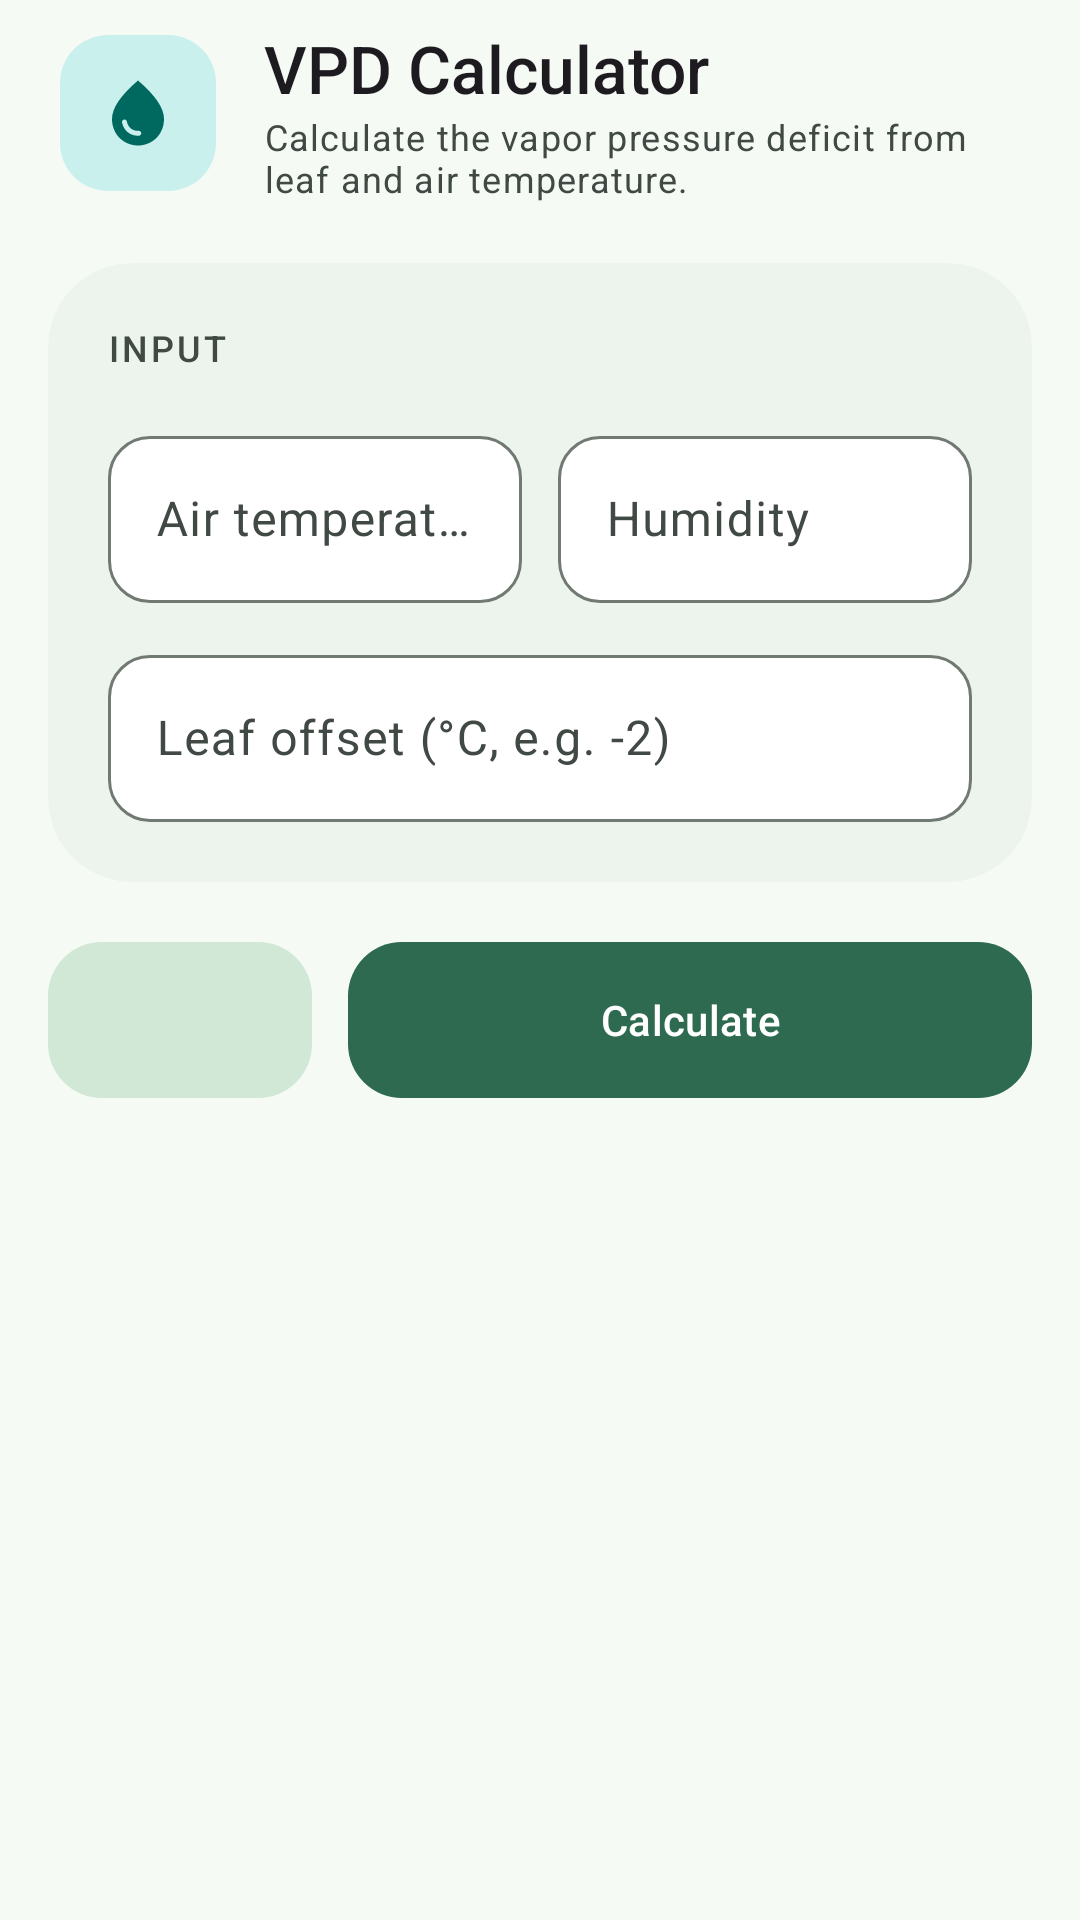

Icon click points for this 1080x1920 phone screenshot, format [x,y]:
tool vpd: [138,113]
